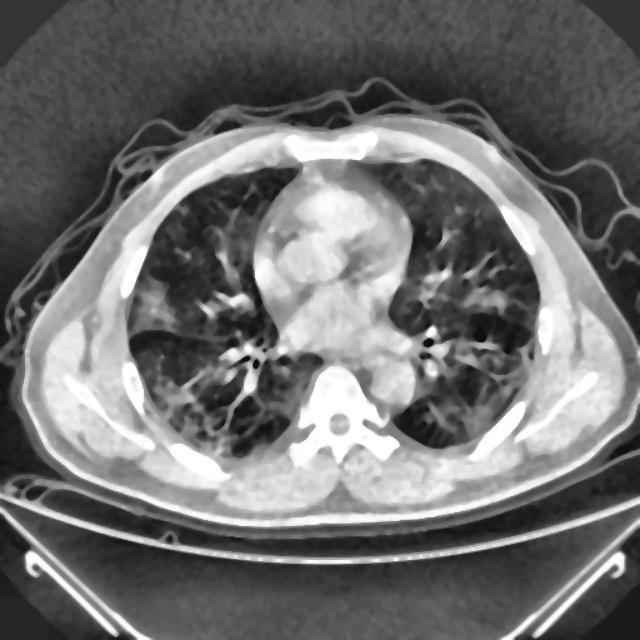covid: (6, 81, 638, 539)
